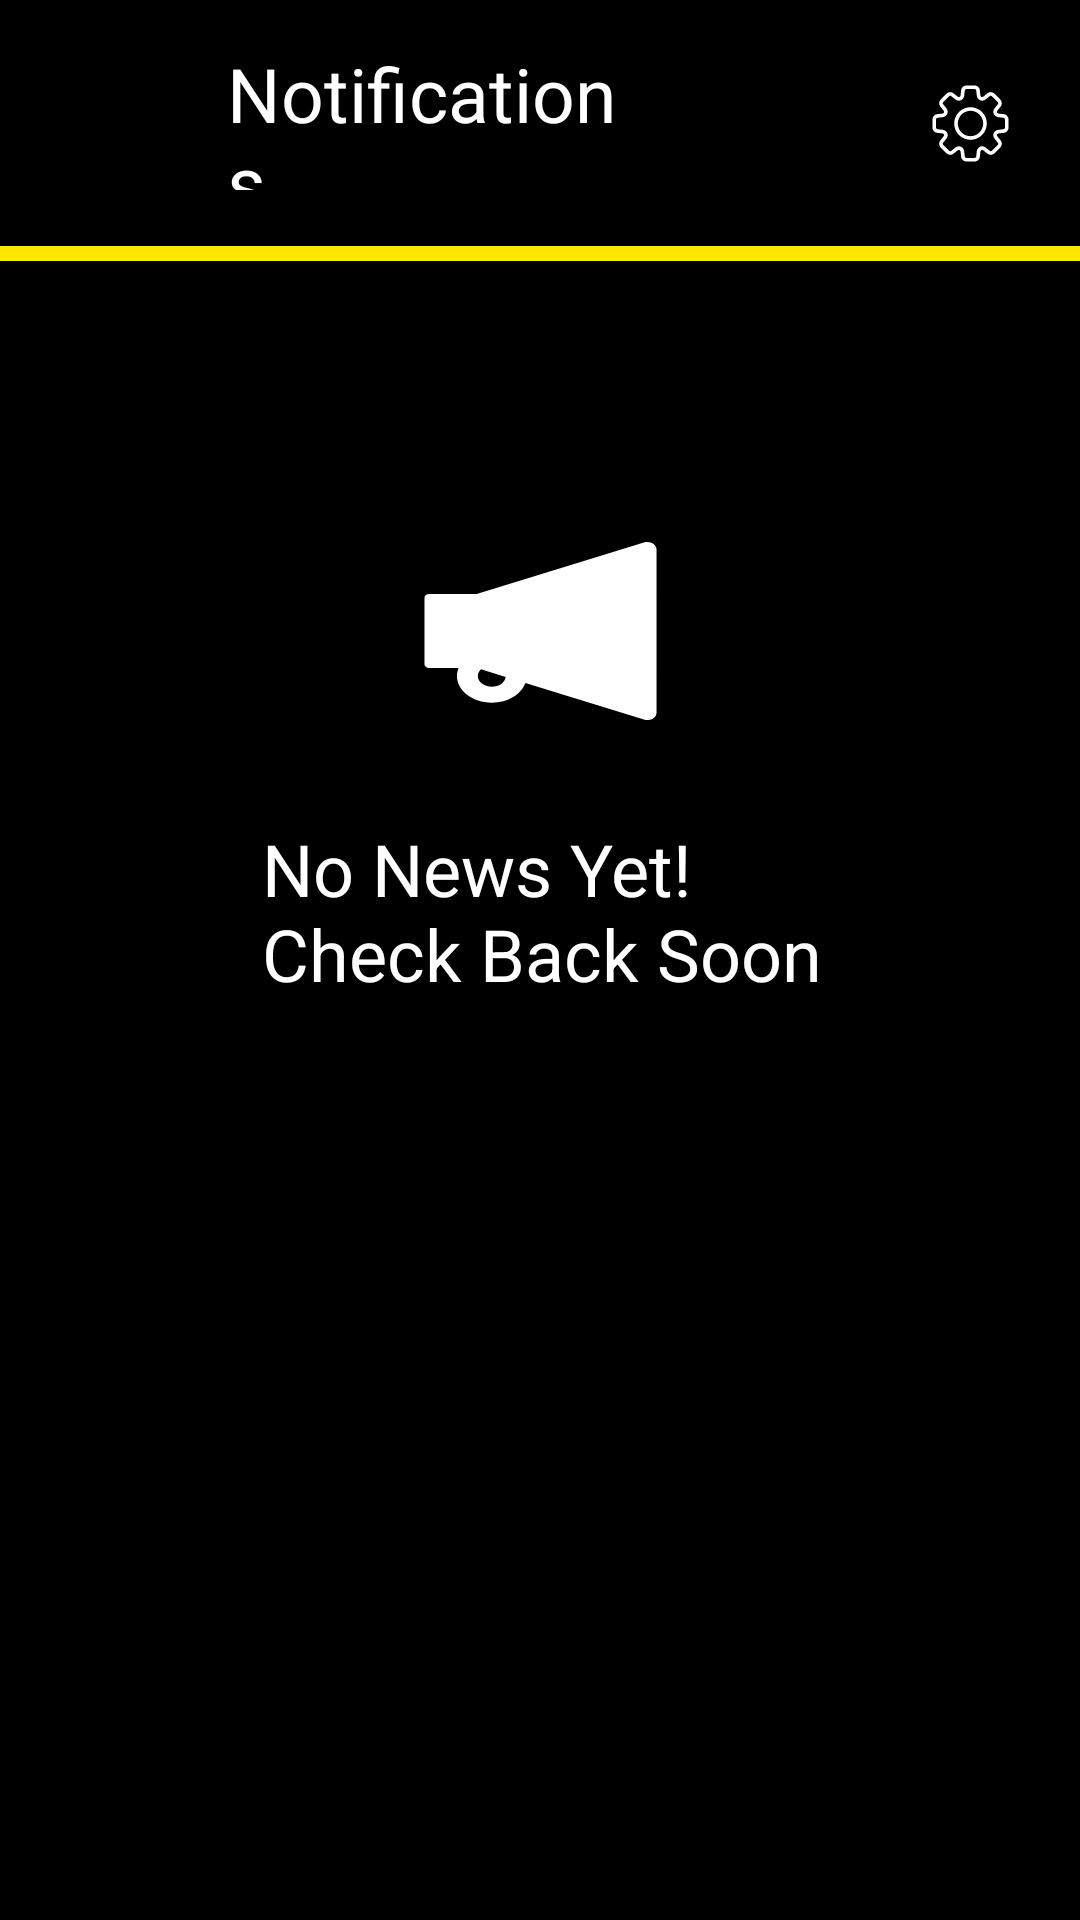

Screen size 1080 x 1920. Icon name, then its center in pixels as point (x, y):
settings symbol: point (970, 123)
speaker: point (540, 631)
